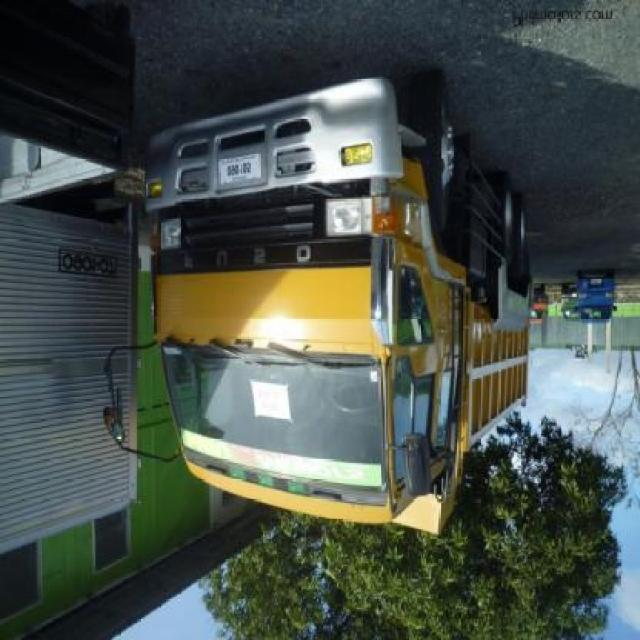truck: (98, 75, 535, 541)
